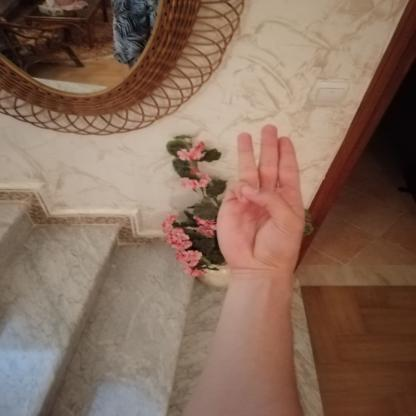THA: (206, 115, 316, 282)
